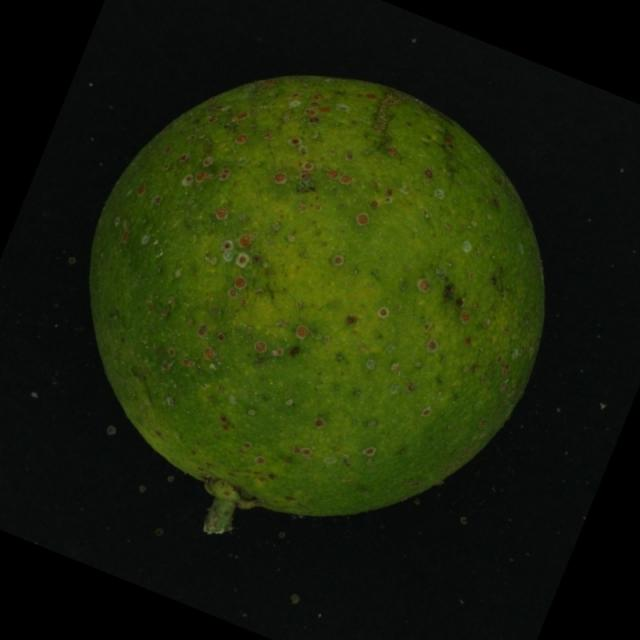grenning: (80, 54, 561, 563)
